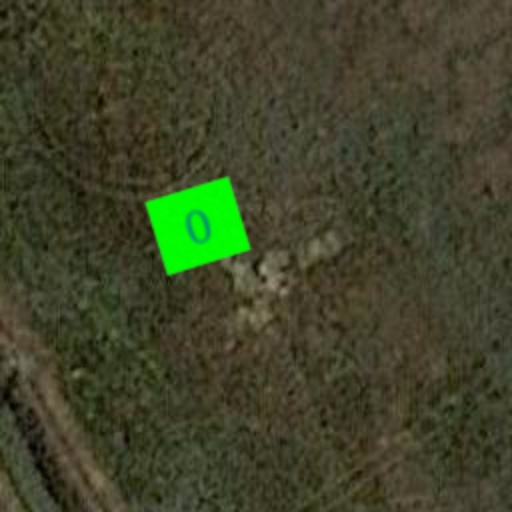rectangle: (142, 170, 254, 282)
